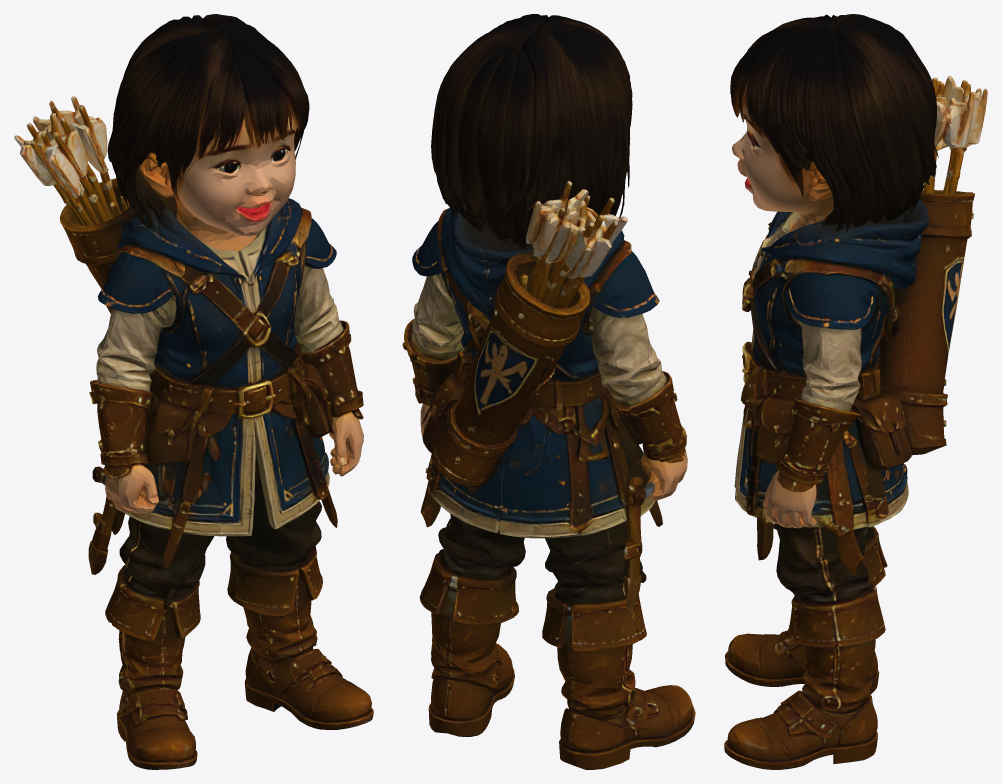
File: bruce bowman_pbr.glb
The picture shows the model from 3 angles, left to right: view 1: azimuth 30°, elevation 25°; view 2: azimuth 150°, elevation 25°; view 3: azimuth 270°, elevation 25°; orthographic projection. The views are drawn at different scales.
Parts seen in each view (by area): view 1: model; view 2: model; view 3: model.
Part boxes in pixels (x1=…): model: x1=14, y1=14, x2=373, y2=769; model: x1=402, y1=14, x2=695, y2=769; model: x1=724, y1=14, x2=987, y2=769.
Bounding box in the file's own units: 0.7563 × 1.89 × 0.6528.
Materials: 1 (1 with a texture image).
